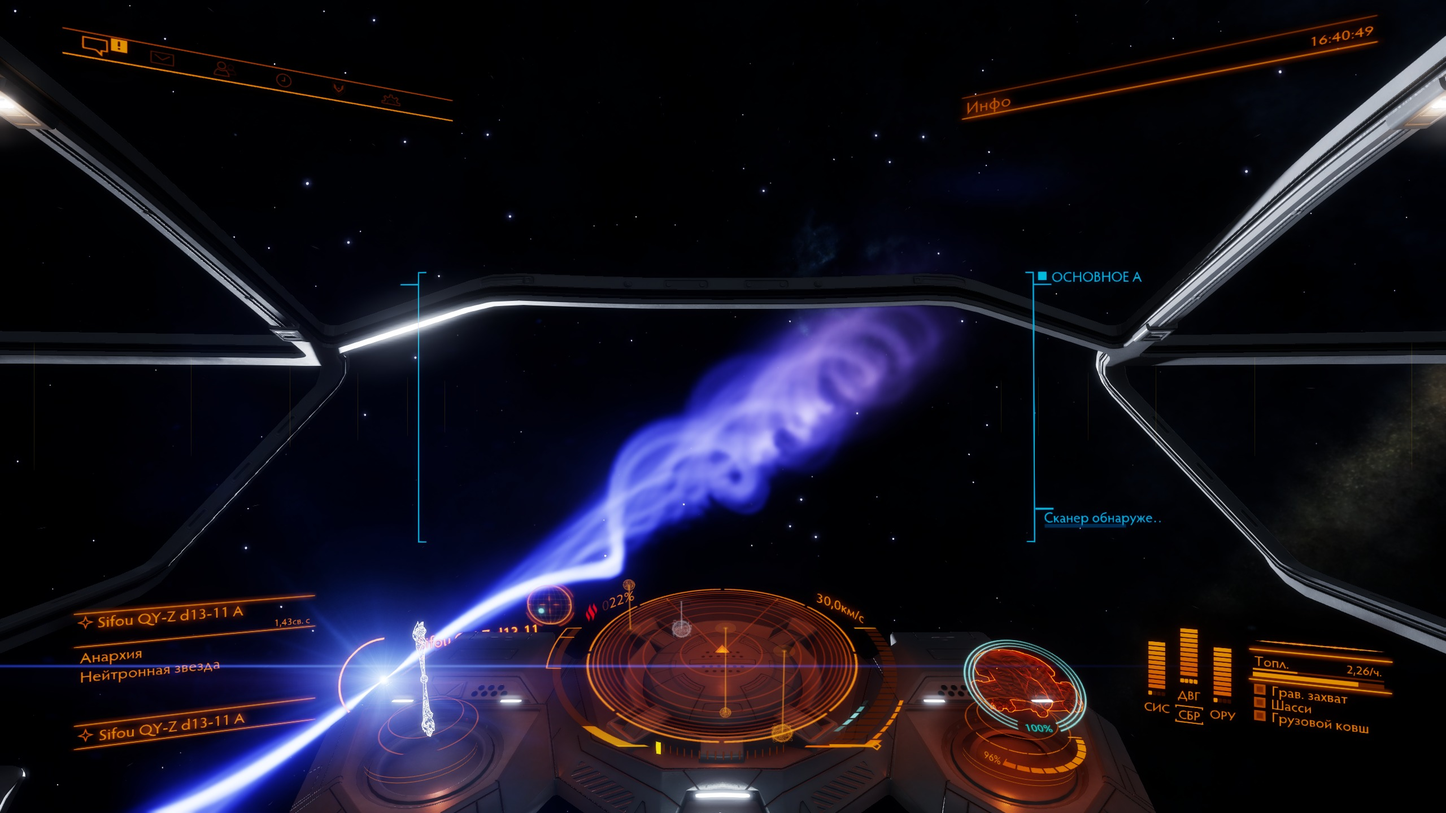jetcone: (414, 277, 969, 617)
